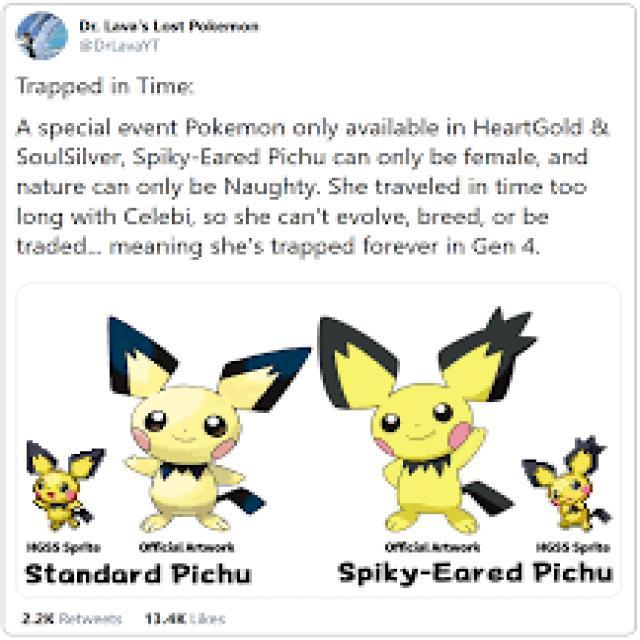pichu: (106, 311, 315, 542), (325, 311, 530, 540), (526, 443, 630, 542), (22, 440, 102, 534)
